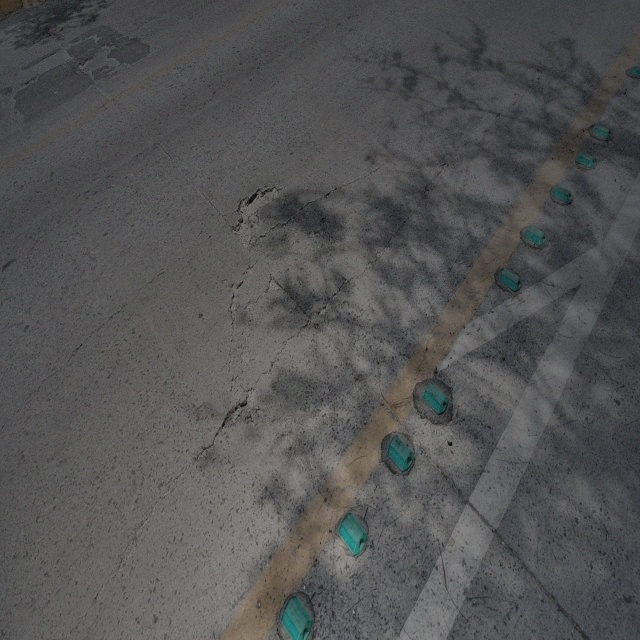pothole: (230, 182, 278, 256), (79, 42, 122, 83), (223, 382, 258, 427)
